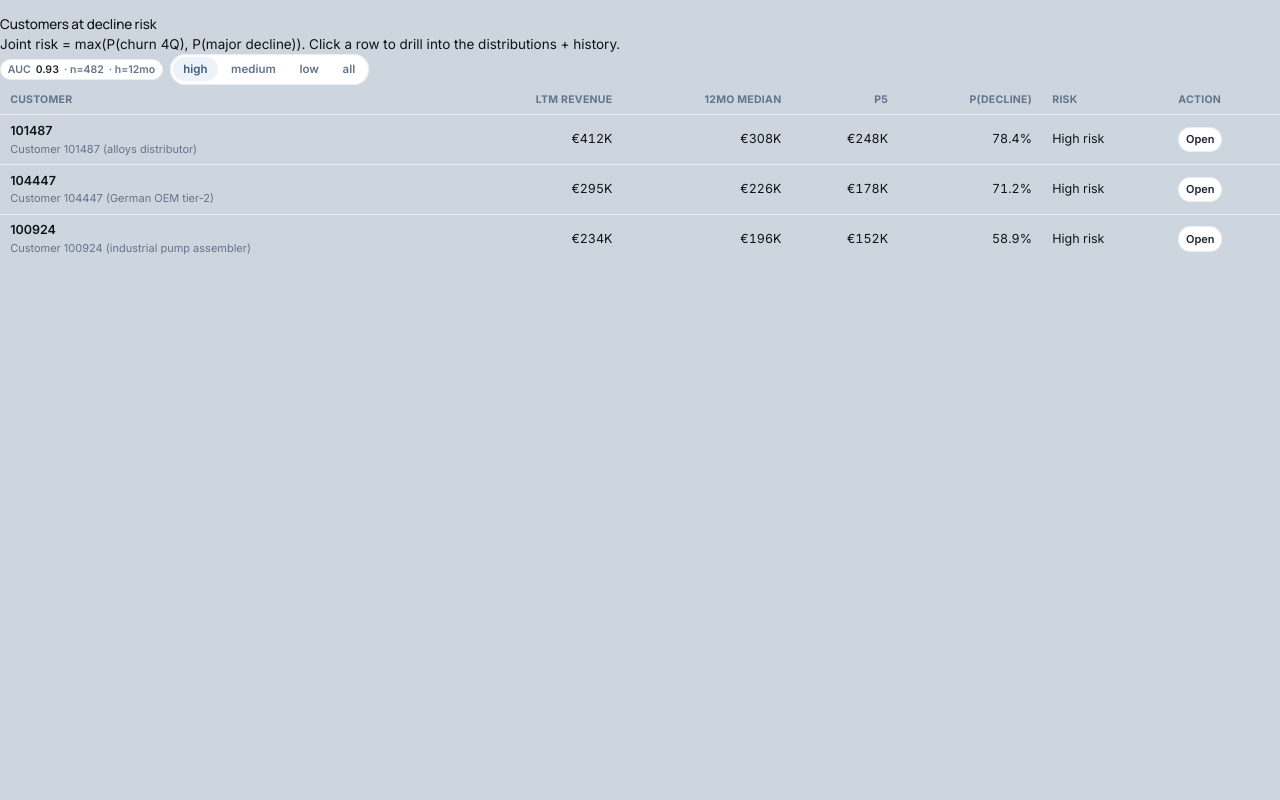
it: Per-customer table (Phase 4) › clicking Open opens the customer detail drawer
Click the button with test id "open-customer-101487" at (1200, 139), box [1178,127,1222,152]
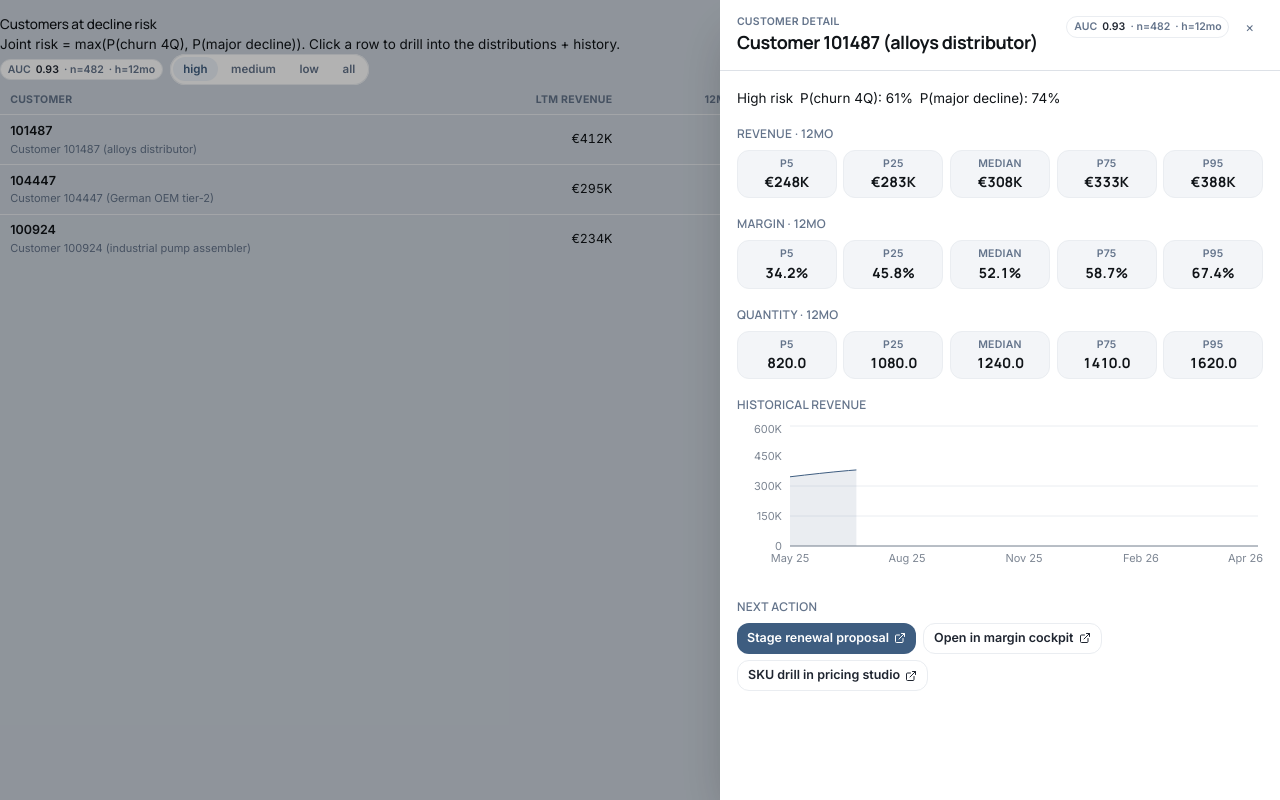
Expected: the text "Customer 101487 (alloys distributor)" is shown, [10,142,197,156]
Expected: the dialog with test id "customer-detail" is shown
